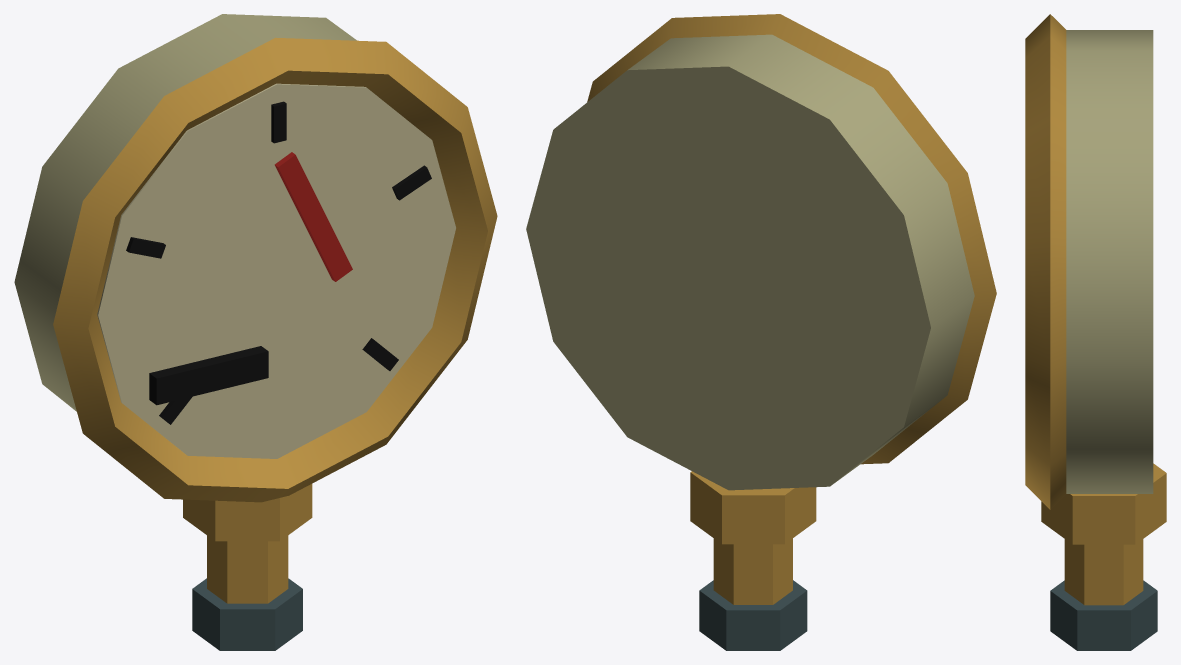
The model's file is scrap_pressure_gauge.fbx.
3 renders of one model, left to right at view 1: azimuth 30°, elevation 25°; view 2: azimuth 150°, elevation 25°; view 3: azimuth 270°, elevation 25°, orthographic. The views are drawn at different scales.
Parts seen in each view (by area): view 1: scrap_pressure_gauge; view 2: scrap_pressure_gauge; view 3: scrap_pressure_gauge.
Part boxes in pixels (left/top/right/bottom): scrap_pressure_gauge: left=14, top=14, right=497, bottom=650; scrap_pressure_gauge: left=526, top=14, right=996, bottom=650; scrap_pressure_gauge: left=1025, top=14, right=1166, bottom=650.
Bounding box in the file's own units: 0.278 × 0.3665 × 0.079.
1 material, 1 textured.
